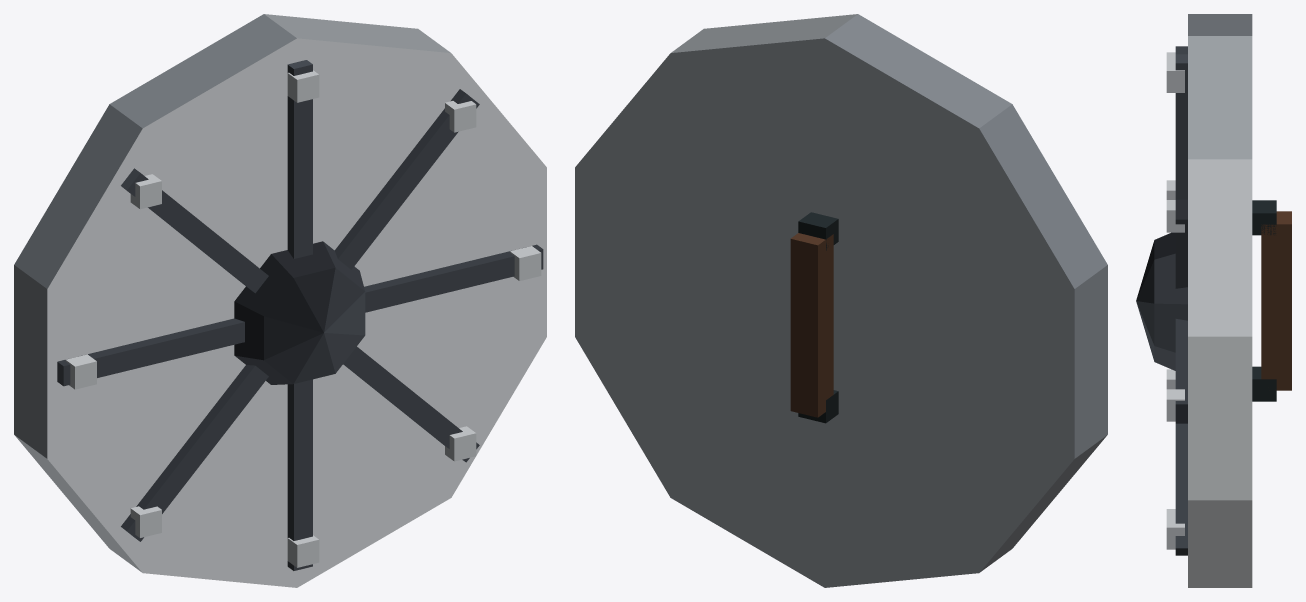
Rendered from barb_off_2.gltf.
3 views of the same model, side by side, from view 1: azimuth 30°, elevation 25°; view 2: azimuth 150°, elevation 25°; view 3: azimuth 270°, elevation 25° (orthographic). The views are drawn at different scales.
Visible parts, largest first — view 1: barb_off_2; view 2: barb_off_2; view 3: barb_off_2.
Part boxes in pixels (x1,y1,x2,y2): barb_off_2: [14, 14, 546, 587]; barb_off_2: [575, 14, 1107, 587]; barb_off_2: [1136, 14, 1291, 587].
Size of the model in its own units: 0.91 by 0.9568 by 0.255.
Materials: 1 (1 with a texture image).
